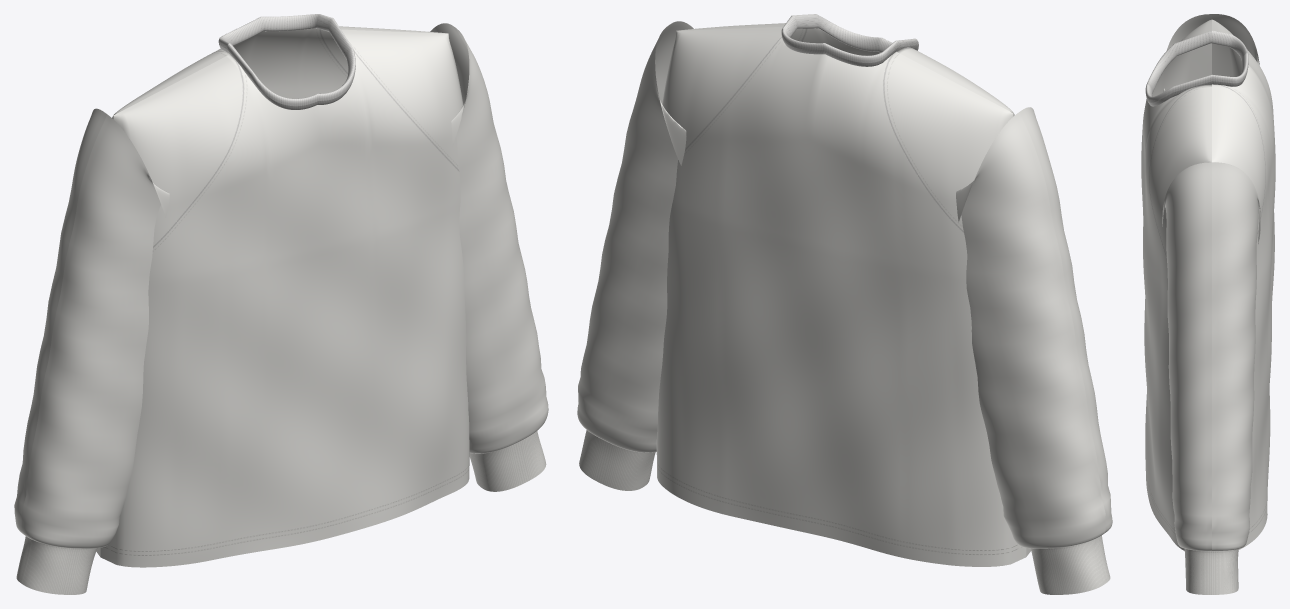
File: raglan-manches-longues.glb
3 renders of one model, left to right at view 1: azimuth 30°, elevation 25°; view 2: azimuth 150°, elevation 25°; view 3: azimuth 270°, elevation 25°, orthographic. The views are drawn at different scales.
Visible parts, largest first — view 1: Devant, Manche_gauche, Manche_droite, Dos, Col; view 2: Dos, Manche_gauche, Manche_droite, Col, Devant; view 3: Manche_droite, Devant, Dos, Col, Manche_gauche.
Boxes of the visible parts, left/top/right/bottom form: Devant: left=100, top=29, right=469, bottom=567; Manche_gauche: left=14, top=108, right=169, bottom=594; Manche_droite: left=430, top=23, right=548, bottom=491; Dos: left=96, top=26, right=447, bottom=556; Col: left=218, top=14, right=355, bottom=109; Dos: left=656, top=26, right=1026, bottom=566; Manche_gauche: left=956, top=107, right=1112, bottom=594; Manche_droite: left=577, top=21, right=693, bottom=490; Col: left=781, top=14, right=918, bottom=66; Devant: left=679, top=23, right=1030, bottom=556; Manche_droite: left=1162, top=162, right=1260, bottom=594; Devant: left=1141, top=19, right=1211, bottom=550; Dos: left=1212, top=19, right=1275, bottom=549; Col: left=1145, top=30, right=1248, bottom=106; Manche_gauche: left=1163, top=14, right=1259, bottom=91.
Bounding box in the file's own units: 0.8052 × 0.7479 × 0.2049.
4 materials, 4 textured.
